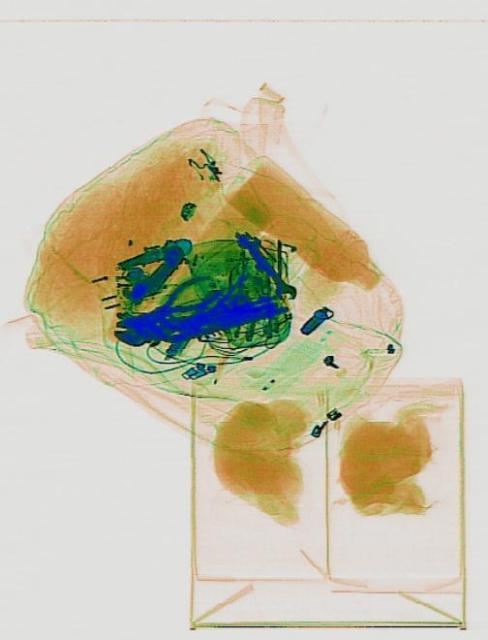Pliers: (130, 270, 220, 340)
Wrench: (235, 224, 295, 306), (111, 302, 214, 346)
